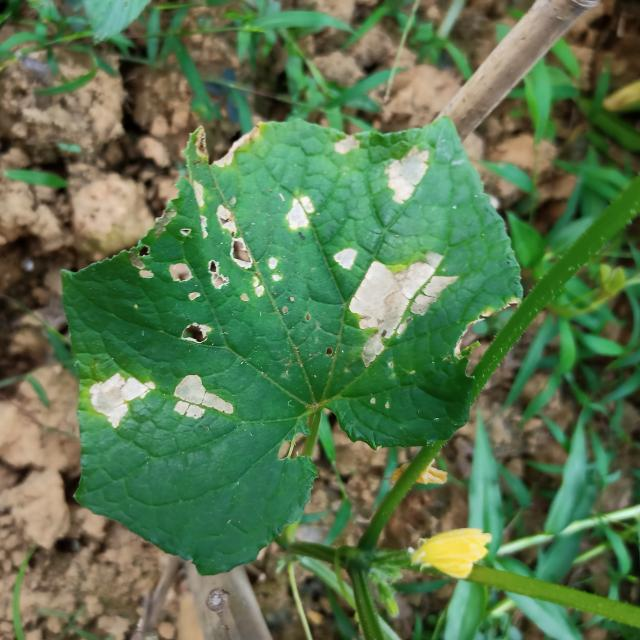disease_cucumber: (350, 249, 450, 362), (206, 204, 287, 301), (86, 364, 160, 437), (161, 255, 208, 347), (169, 371, 237, 427), (380, 144, 435, 206), (282, 186, 320, 236), (332, 132, 365, 160), (334, 246, 359, 272)
